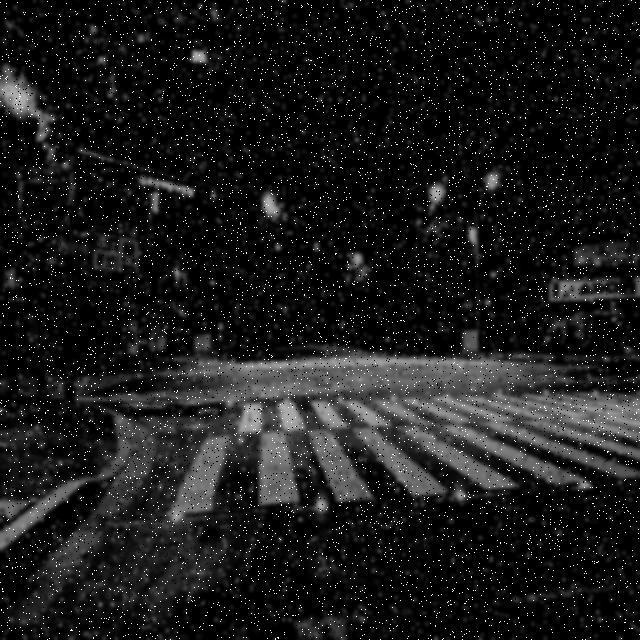Pedestrian crosswalk: (52, 386, 640, 526), (212, 354, 495, 377), (1, 362, 127, 411)
